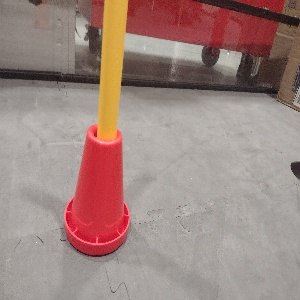Red_1: (61, 119, 130, 256)
